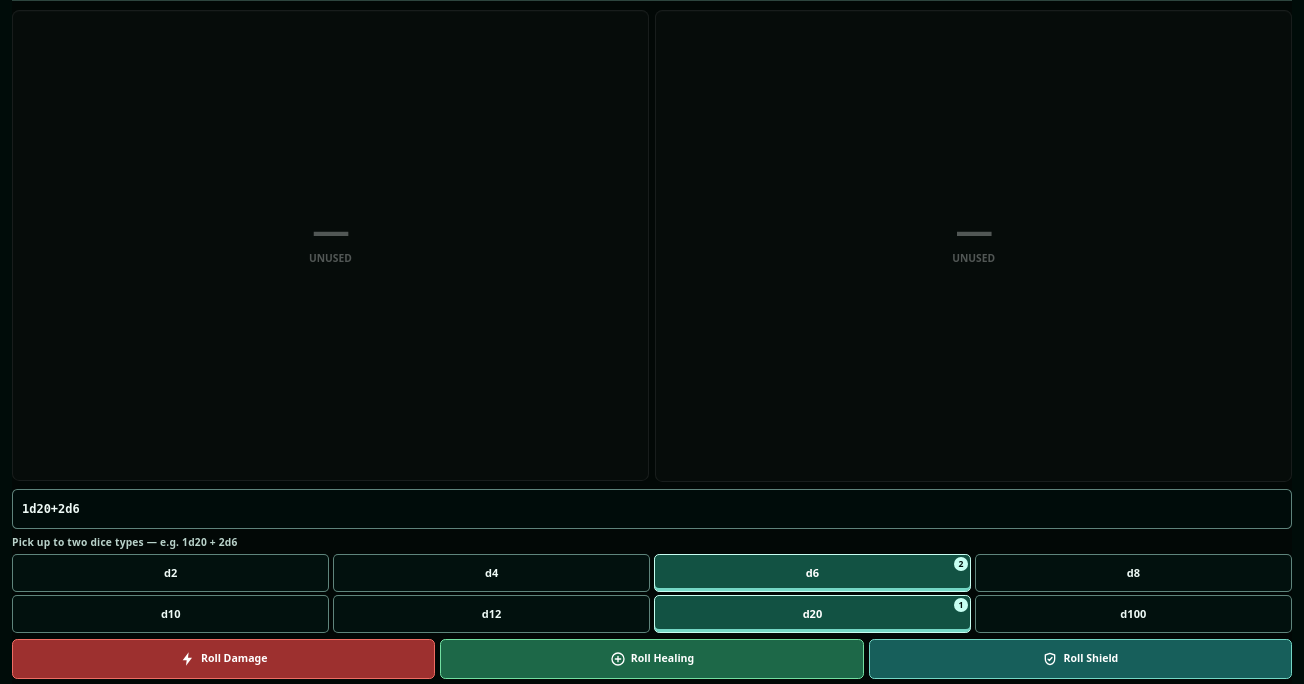
Test: a die button click after typing an implicit-count expression fills in a default count of one
Replace the text in the field named "Dice expression" with "d20": x=652, y=509 [12,489,1292,529]
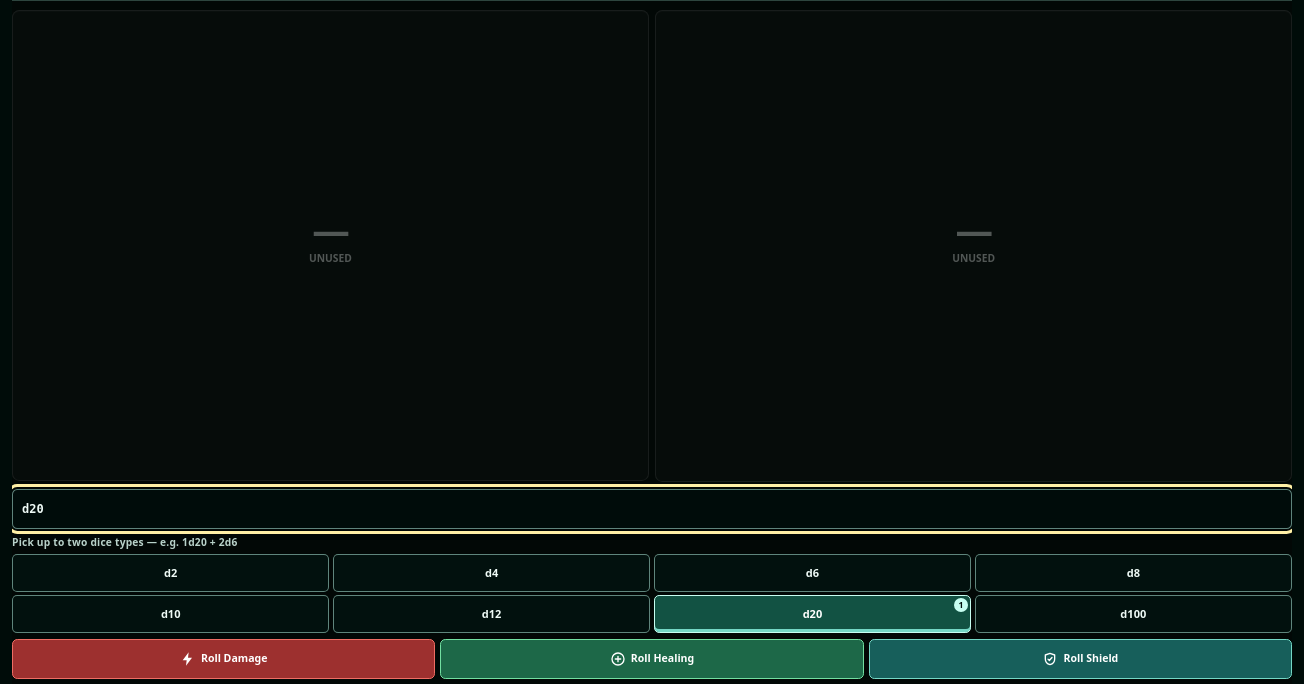
Click the button "d6": x=812, y=573 [654,554,971,592]
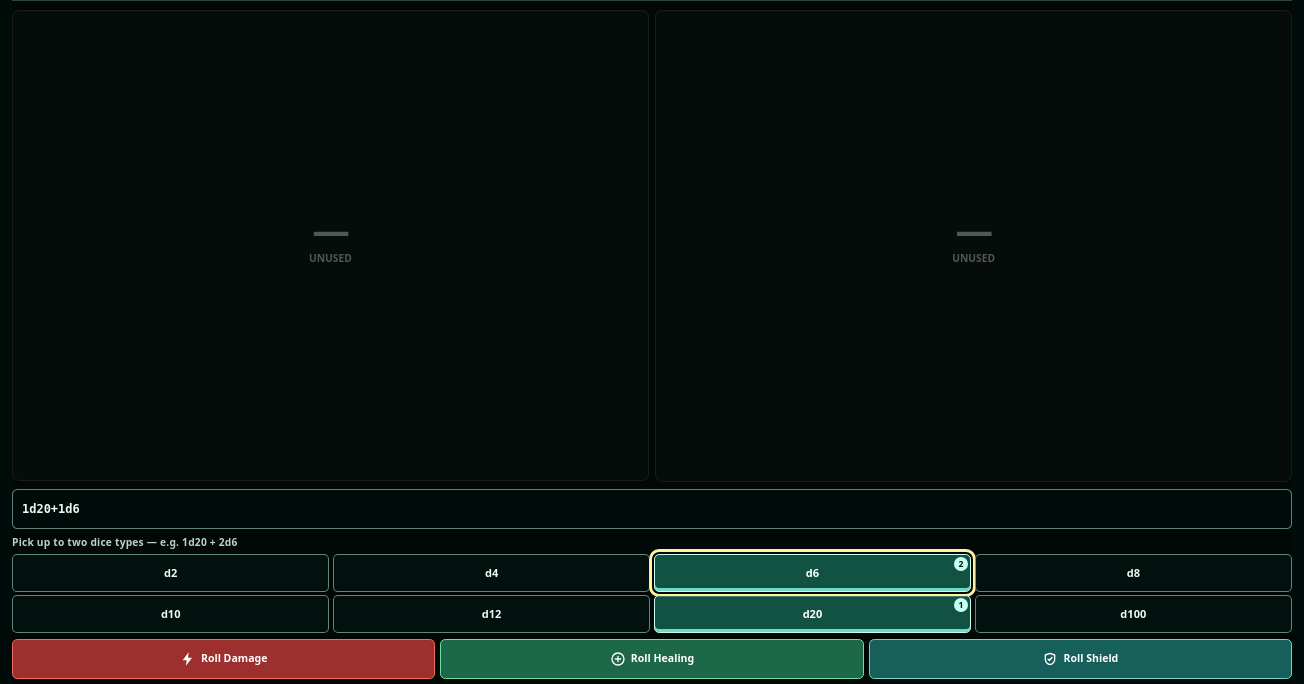
Result: the field named "Dice expression" holds "1d20+1d6" at [12,489,1292,529]
